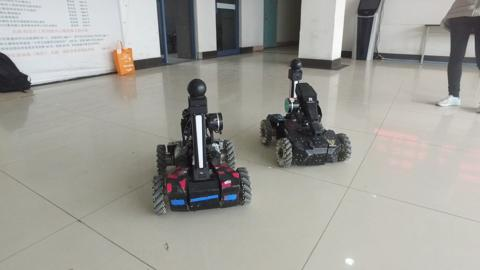chariot: (142, 76, 253, 220), (262, 59, 355, 183)
